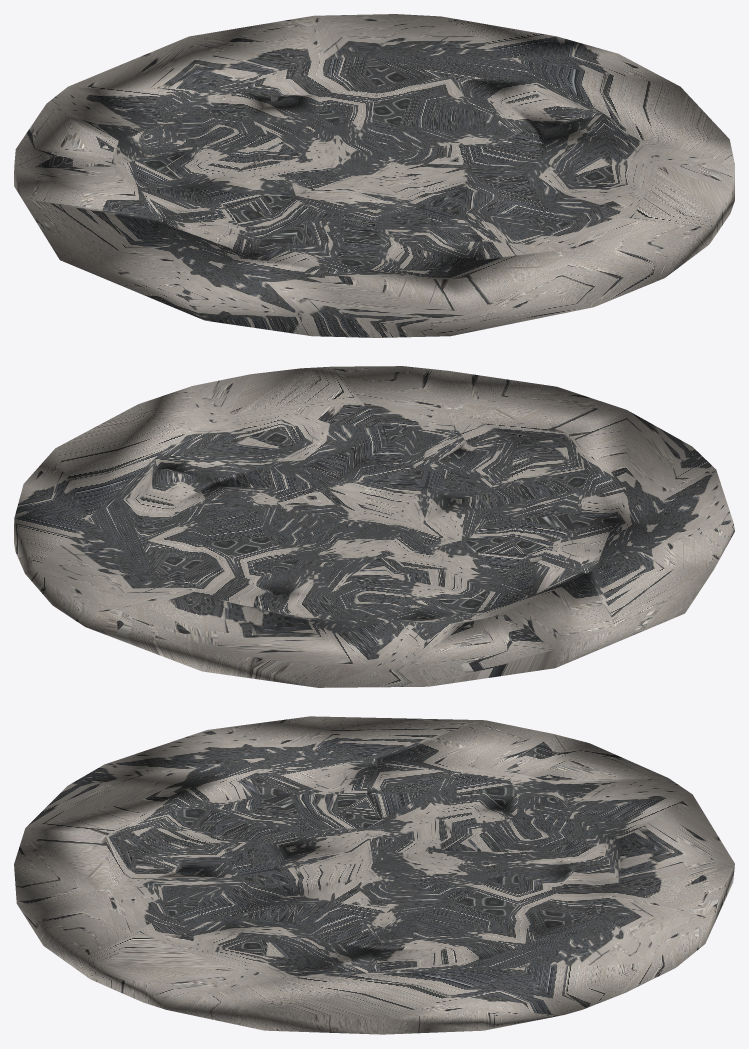
File: grate_lod1.glb
The picture shows the model from 3 angles, top to bottom: view 1: azimuth 30°, elevation 25°; view 2: azimuth 150°, elevation 25°; view 3: azimuth 270°, elevation 25°; orthographic projection.
Bounding box in the file's own units: 1.9 × 0.0643 × 1.9.
Materials: 1 (1 with a texture image).
